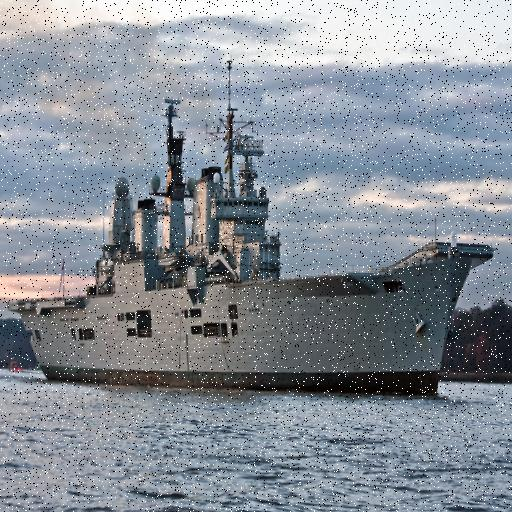Portanaves: (9, 42, 499, 405)
